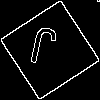J: (25, 25, 59, 76)
